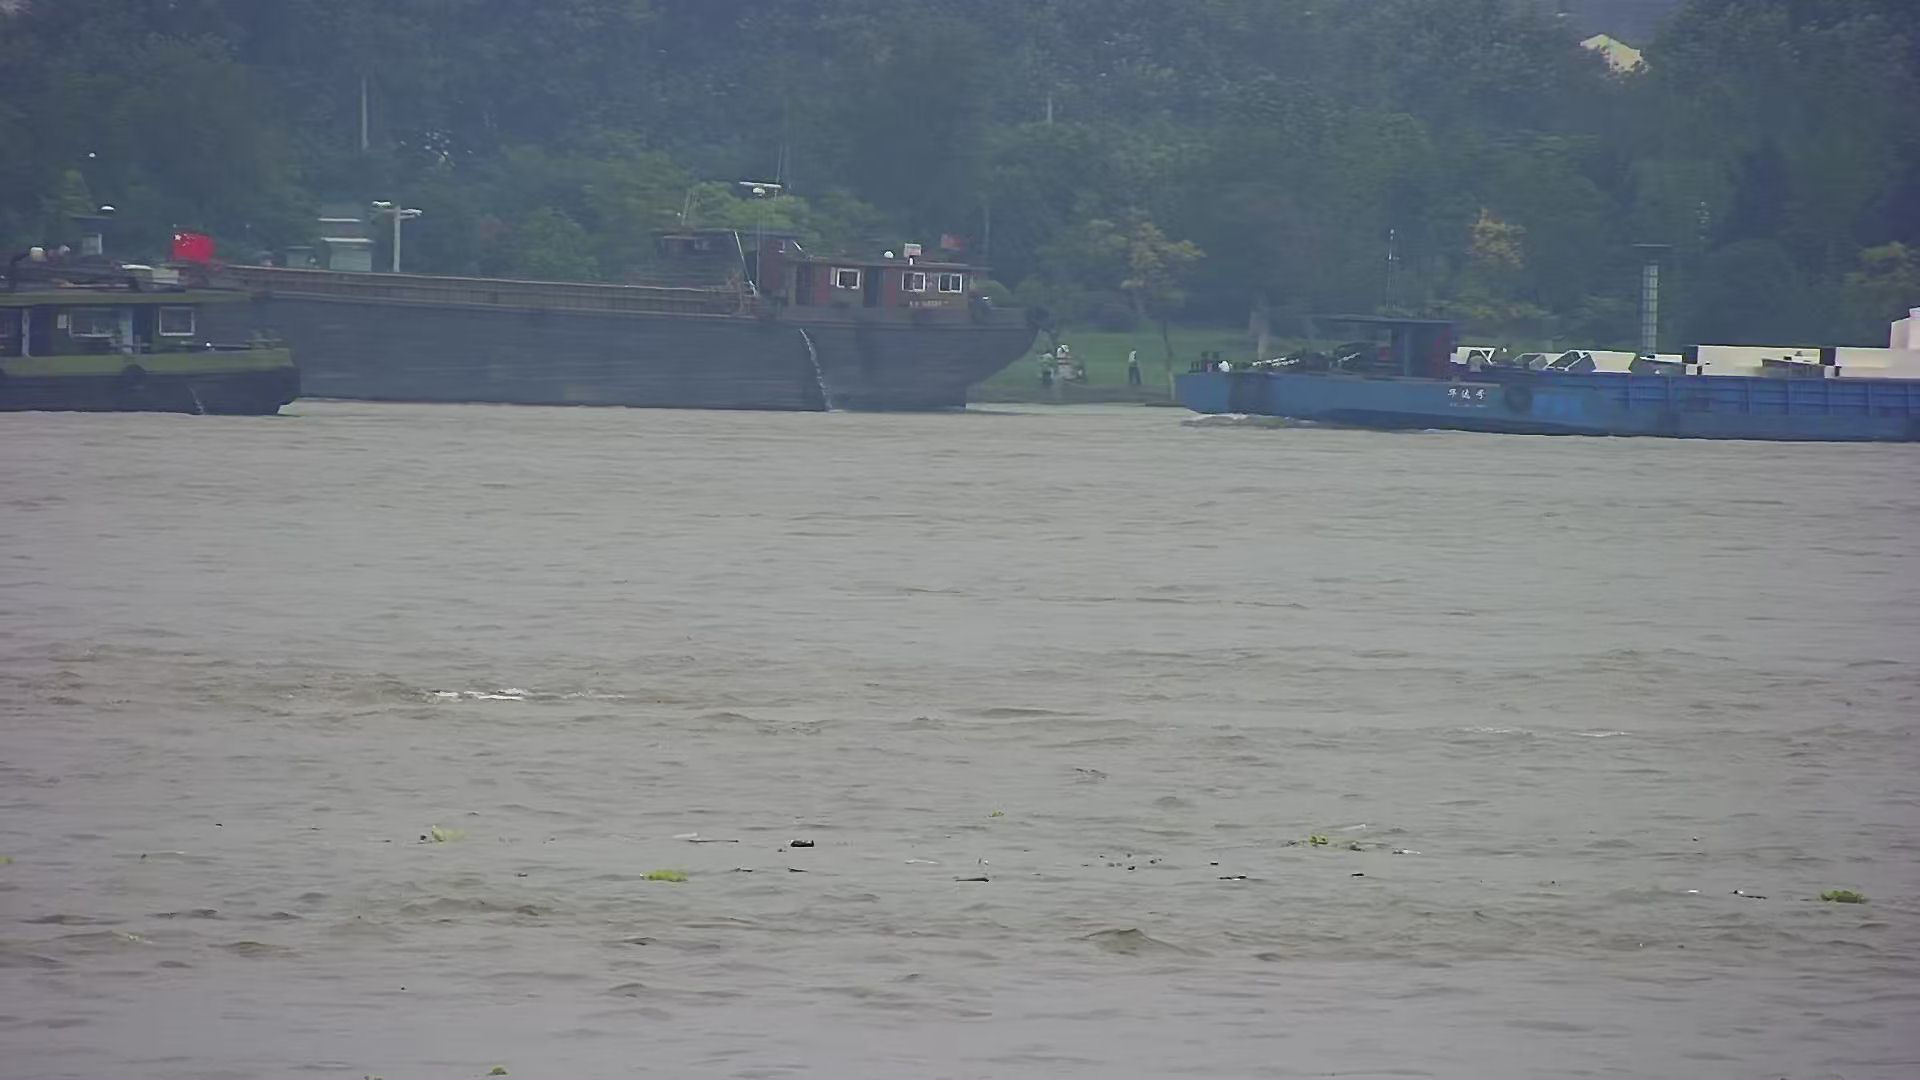ship: (167, 225, 1044, 423), (1171, 272, 1915, 450), (3, 237, 299, 419)
